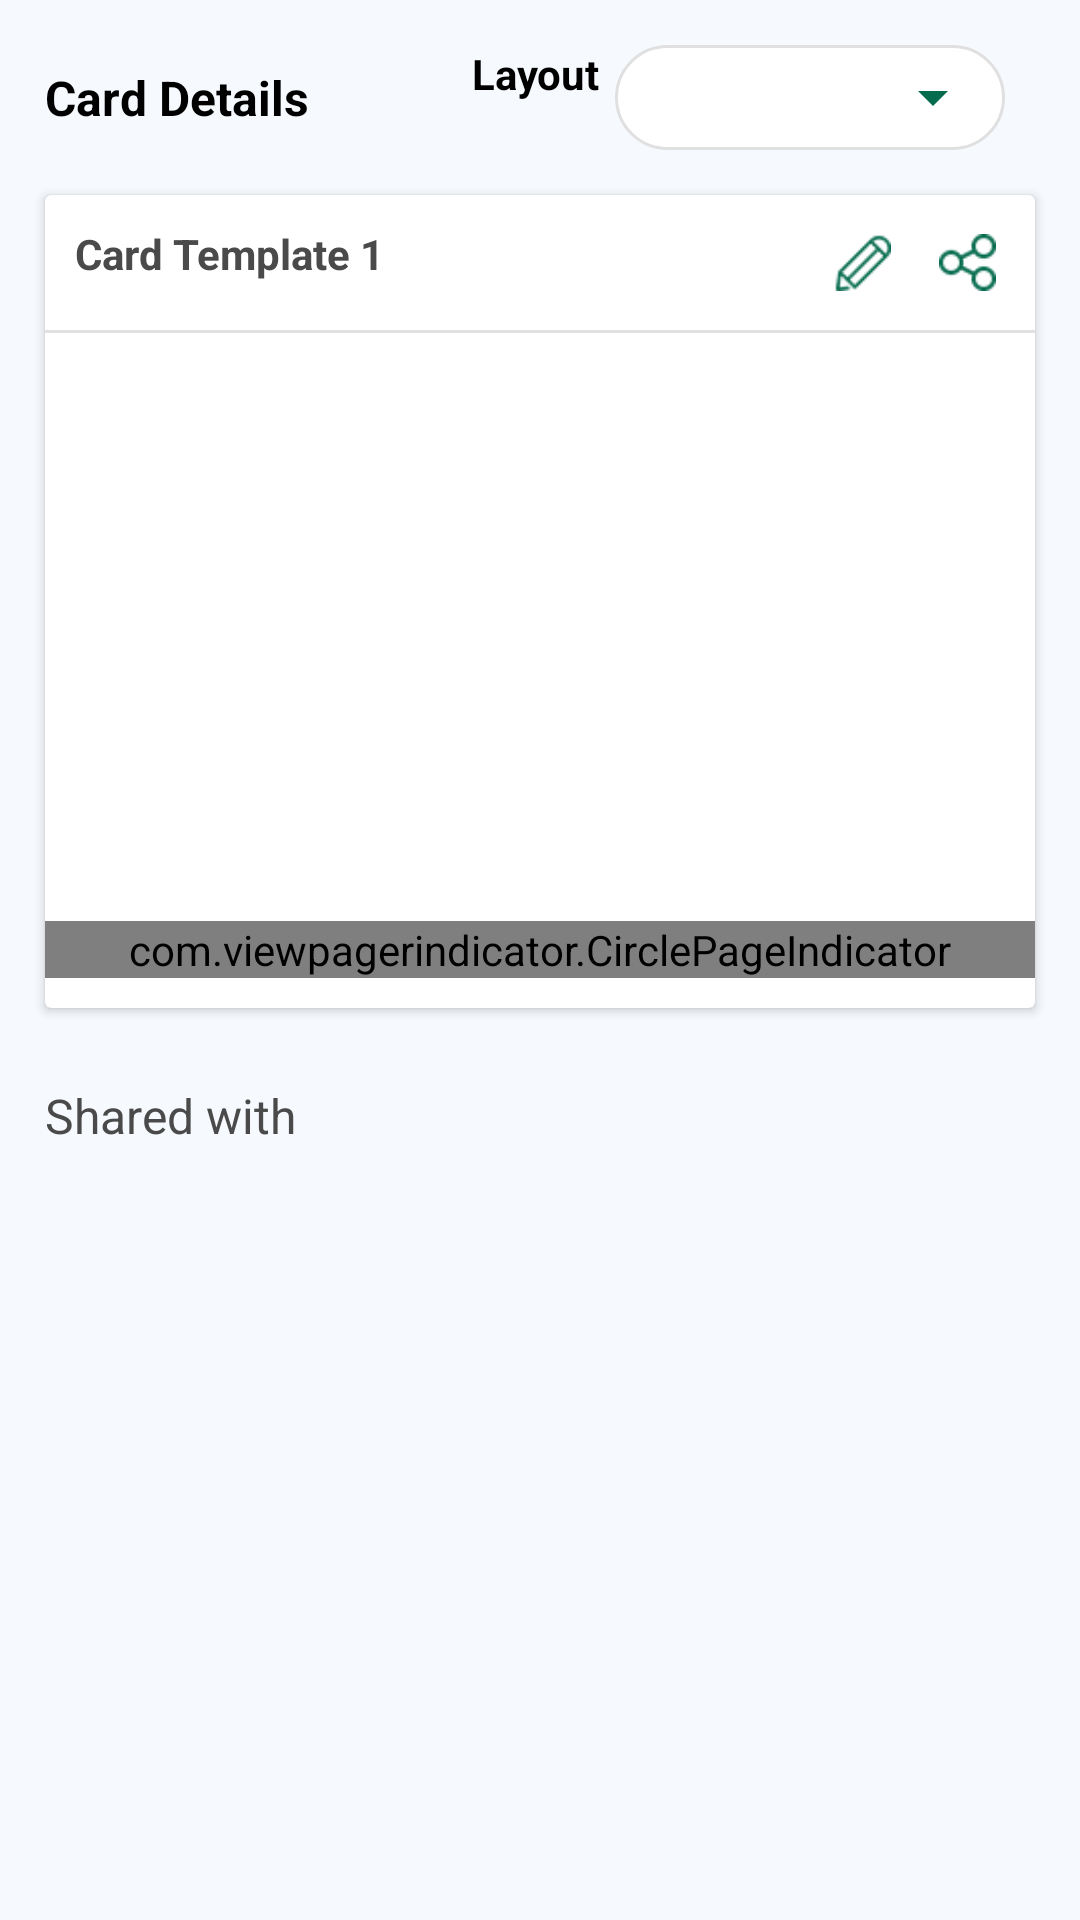

Screen size 1080×1920. Icon name, then its box in pixels as [left=x1, top=y1, right=x2, bottom=y2]:
edit: [left=835, top=235, right=891, bottom=291]
share: [left=939, top=234, right=996, bottom=291]
